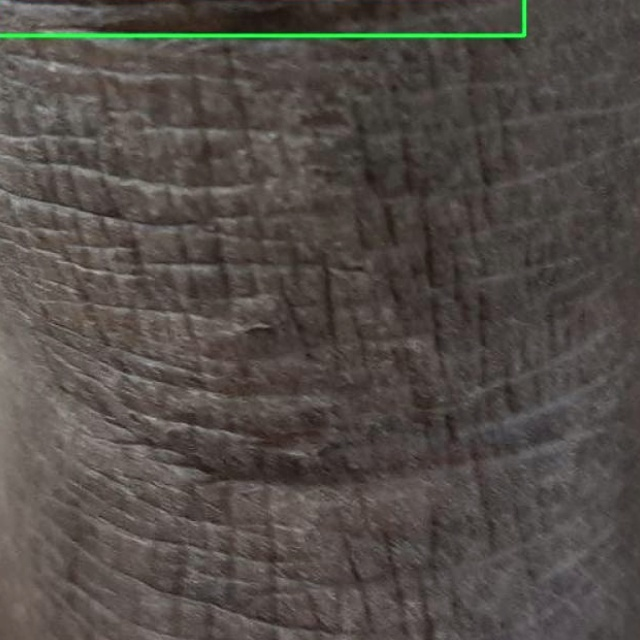Eczema: (0, 0, 524, 35)
